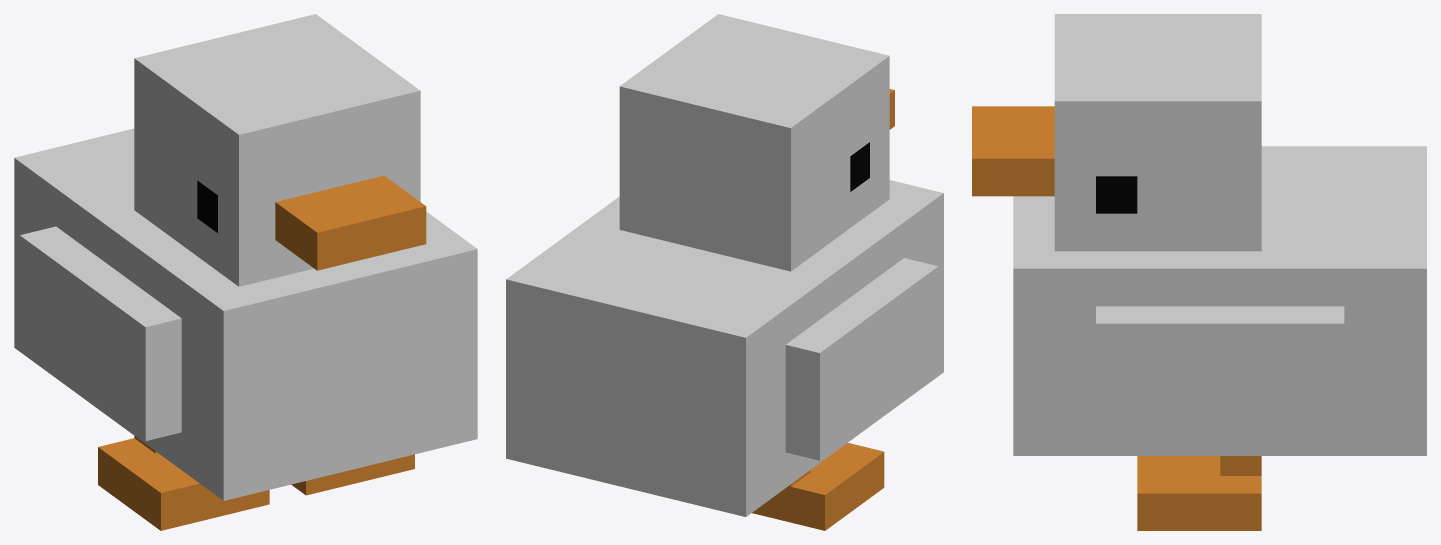
File: papera fbx (1).fbx
3 renders of one model, left to right at view 1: azimuth 30°, elevation 25°; view 2: azimuth 150°, elevation 25°; view 3: azimuth 270°, elevation 25°, orthographic. The views are drawn at different scales.
Visible parts, largest first — view 1: papera; view 2: papera; view 3: papera.
Boxes of the visible parts, bbox=[...] form: papera: bbox=[14, 14, 477, 530]; papera: bbox=[506, 14, 943, 530]; papera: bbox=[972, 14, 1426, 530].
Size of the model in its own units: 90 by 110 by 110.
